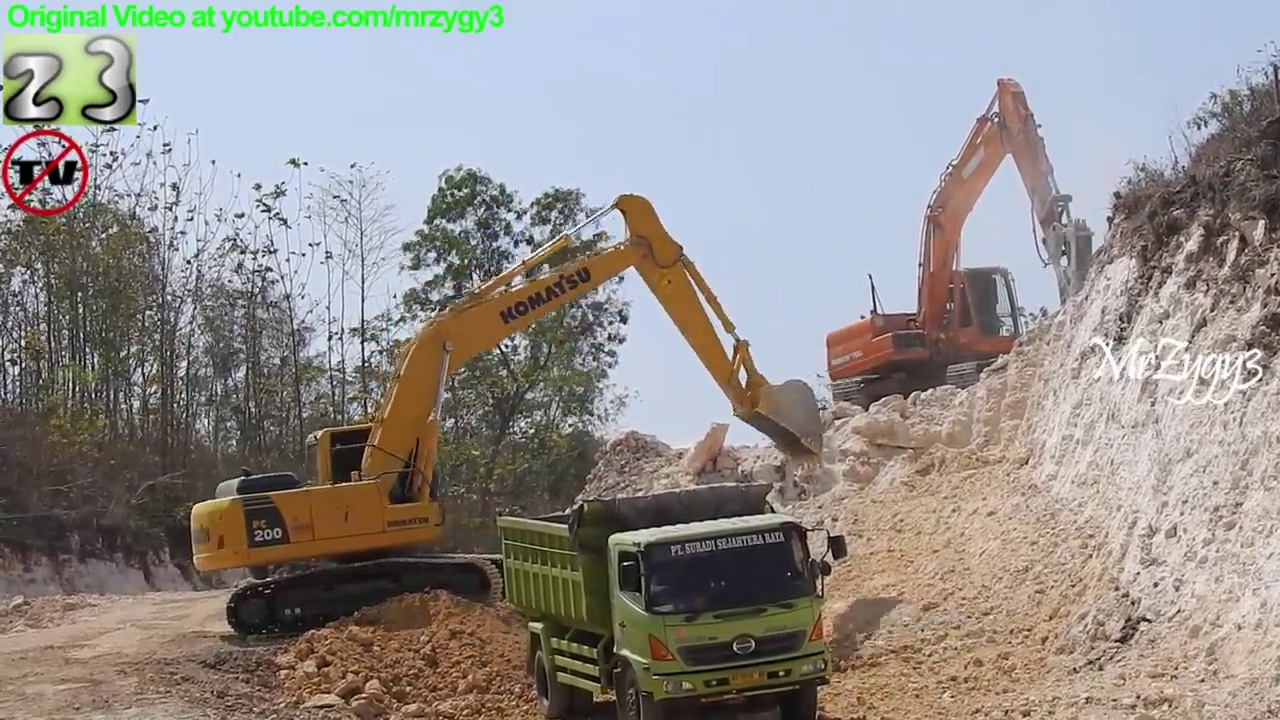excavator: (186, 189, 830, 644), (819, 69, 1102, 420)
truck: (496, 476, 856, 720)
